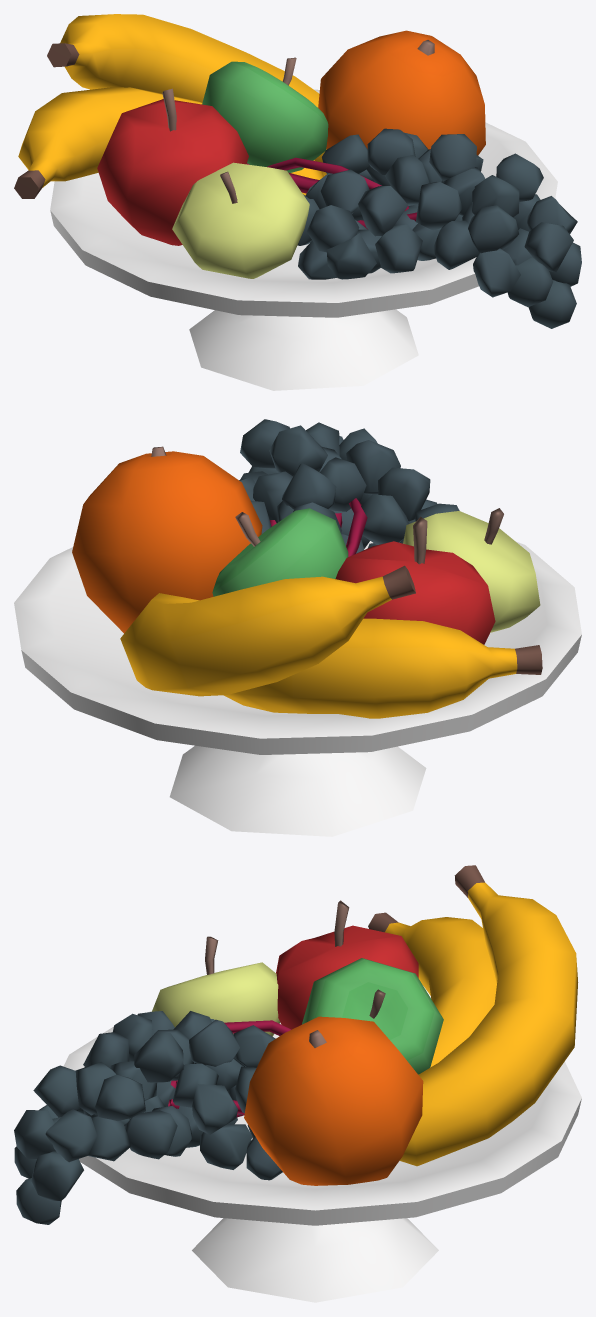
The model's file is Fruits_01.glb.
The picture shows the model from 3 angles, top to bottom: view 1: azimuth 30°, elevation 25°; view 2: azimuth 150°, elevation 25°; view 3: azimuth 270°, elevation 25°; orthographic projection. The views are drawn at different scales.
Parts seen in each view (by area): view 1: Fruits_01; view 2: Fruits_01; view 3: Fruits_01.
Part boxes in pixels (left/top/right/bottom): Fruits_01: left=14, top=14, right=581, bottom=390; Fruits_01: left=14, top=419, right=581, bottom=836; Fruits_01: left=14, top=865, right=581, bottom=1302.
Bounding box in the file's own units: 0.4538 × 0.2619 × 0.4503.
2 materials, 2 textured.
